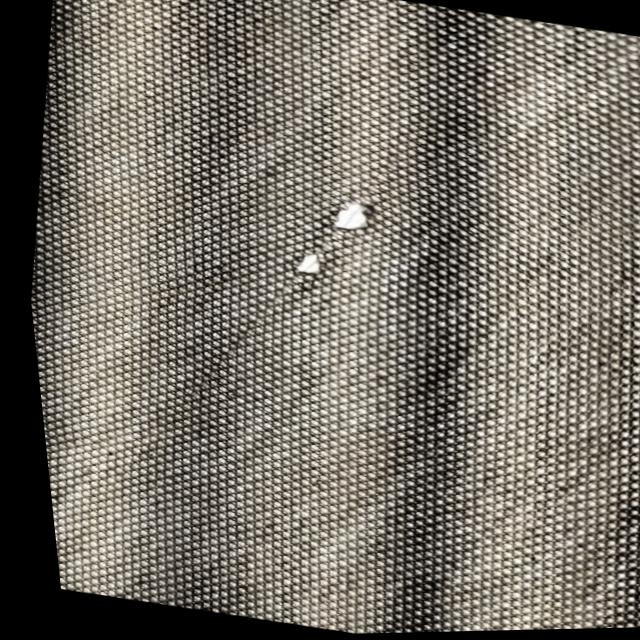Hole: (319, 195, 371, 238), (286, 251, 319, 280)
